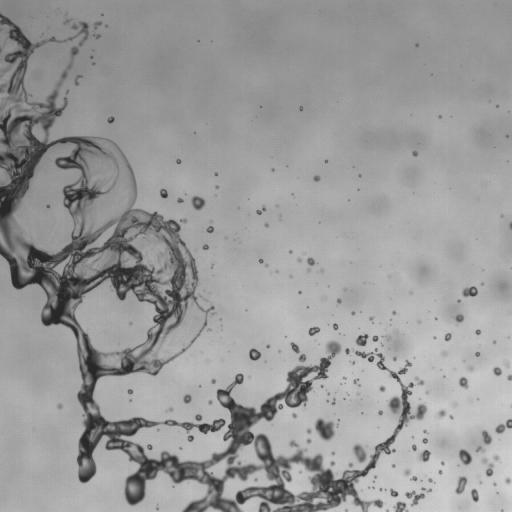droplet: (405, 487, 431, 506), (315, 418, 336, 440), (72, 22, 88, 45), (353, 444, 366, 462), (455, 476, 467, 494), (191, 196, 205, 210), (459, 449, 471, 465), (462, 286, 477, 297), (418, 449, 430, 462), (356, 334, 368, 346), (394, 501, 408, 511), (249, 348, 260, 360), (482, 430, 491, 444), (308, 326, 319, 335), (459, 377, 468, 388), (70, 46, 78, 58), (291, 342, 299, 353), (471, 489, 478, 501), (183, 394, 191, 403), (437, 409, 445, 418), (307, 257, 315, 265), (455, 314, 463, 322), (493, 367, 501, 375), (160, 189, 167, 198), (299, 354, 306, 362), (390, 489, 397, 497), (445, 333, 451, 341), (94, 22, 101, 28), (207, 226, 213, 233), (108, 117, 114, 123), (372, 335, 378, 341), (404, 469, 410, 475), (333, 323, 338, 330), (476, 446, 483, 451), (313, 176, 319, 181), (202, 244, 208, 249), (379, 386, 385, 391), (505, 478, 511, 483), (412, 151, 417, 156), (475, 329, 480, 334), (422, 438, 427, 443), (147, 444, 152, 449), (494, 455, 499, 460), (177, 198, 183, 202), (345, 348, 349, 354), (411, 476, 417, 480), (258, 259, 263, 263), (337, 298, 341, 303), (468, 366, 473, 370), (507, 375, 511, 380), (128, 389, 132, 394), (57, 404, 62, 408), (167, 407, 172, 411), (307, 428, 311, 433), (412, 445, 416, 450), (65, 19, 69, 23), (176, 159, 180, 163), (442, 351, 446, 355), (475, 352, 479, 356), (211, 379, 215, 383), (208, 400, 212, 404), (378, 410, 382, 414), (292, 413, 296, 417), (438, 470, 442, 474), (428, 478, 432, 482), (94, 34, 99, 37), (68, 37, 73, 40), (332, 399, 335, 404), (306, 439, 311, 442), (264, 223, 268, 226), (370, 317, 373, 321), (423, 430, 427, 433), (47, 204, 50, 207), (392, 311, 395, 314), (393, 357, 396, 360), (216, 185, 218, 188), (298, 258, 300, 261), (298, 291, 301, 293), (352, 311, 354, 314), (351, 361, 354, 363), (450, 416, 453, 418), (441, 462, 444, 464), (254, 478, 257, 480), (493, 483, 496, 485), (300, 107, 302, 109), (387, 337, 389, 339), (267, 345, 269, 347), (343, 377, 345, 379)
ligament: (0, 13, 427, 511), (495, 419, 511, 433), (481, 458, 493, 476), (256, 206, 265, 214), (353, 379, 360, 386), (75, 75, 80, 84), (509, 222, 511, 228), (0, 47, 1, 52)
